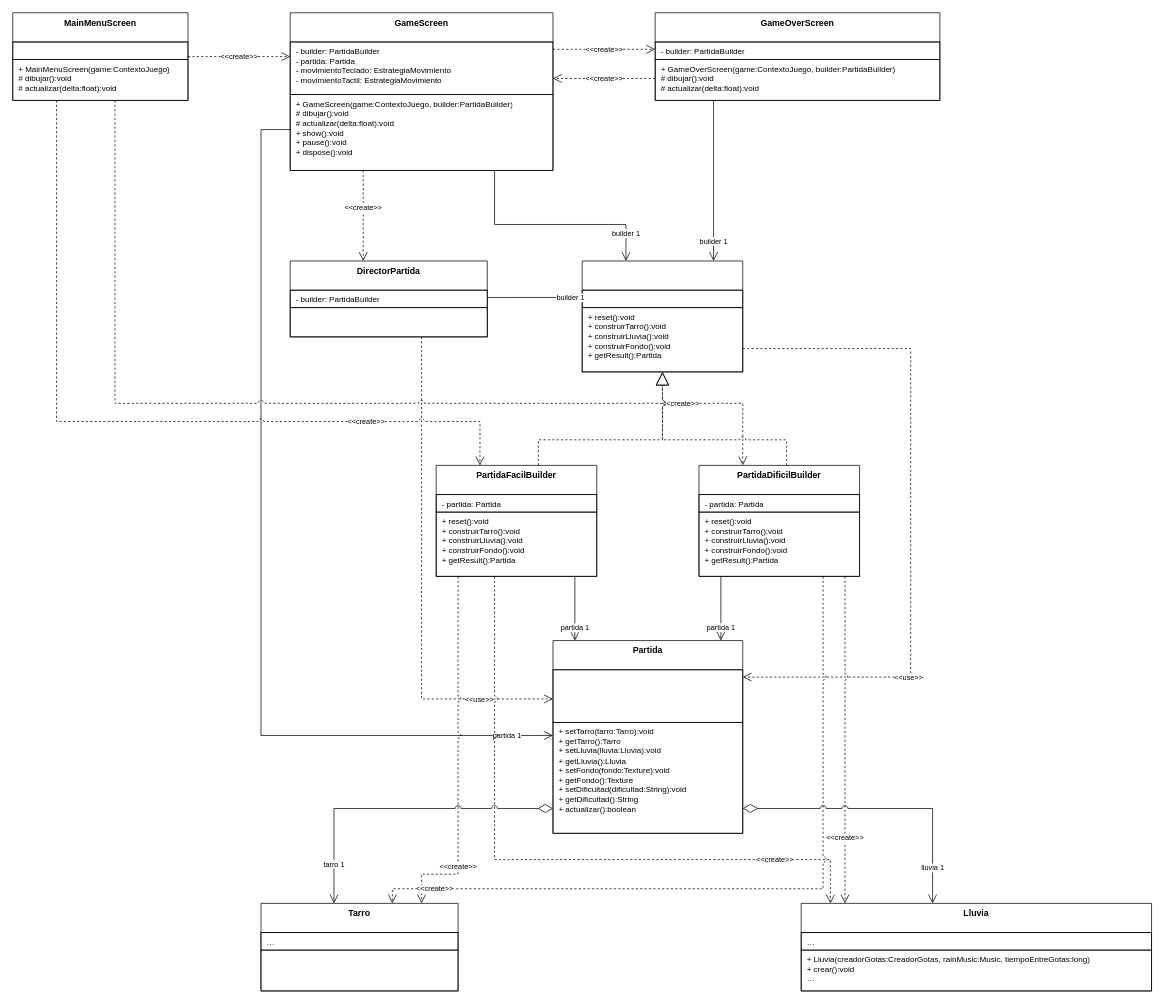
The diagram is 1164 pixels wide and 1006 high, and some of its shapes have lost their labels. Each missing label, with the box of its shape:
+ DirectorPartida(builder:PartidaBuilder) + prepararPartida():Partida: (289, 307, 487, 337)
+ Tarro(tex:Texture, ss:Sound, vidas:int) + crear():void …: (260, 949, 458, 991)
- tarro: Tarro - lluvia: Lluvia - fondo: Texture - dificultad: String: (552, 669, 743, 722)
<<interface>> PartidaBuilder: (581, 260, 743, 372)
